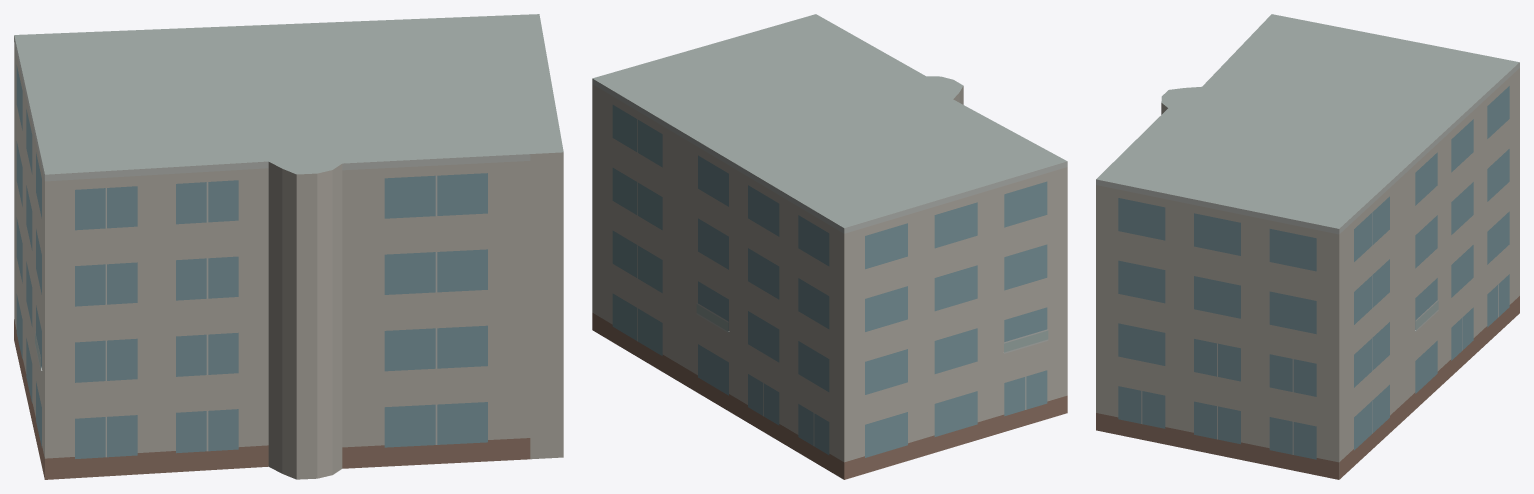
File: survey-upis-32734378.glb
3 renders of one model, left to right at view 1: azimuth 30°, elevation 25°; view 2: azimuth 150°, elevation 25°; view 3: azimuth 270°, elevation 25°, orthographic. The views are drawn at different scales.
Visible parts, largest first — view 1: survey-upis-32734378.tmp; view 2: survey-upis-32734378.tmp; view 3: survey-upis-32734378.tmp.
Part boxes in pixels (left/top/right/bottom): survey-upis-32734378.tmp: left=14, top=14, right=563, bottom=479; survey-upis-32734378.tmp: left=592, top=14, right=1067, bottom=479; survey-upis-32734378.tmp: left=1096, top=14, right=1519, bottom=479.
Size of the model in its own units: 20.21 by 11 by 16.84.
